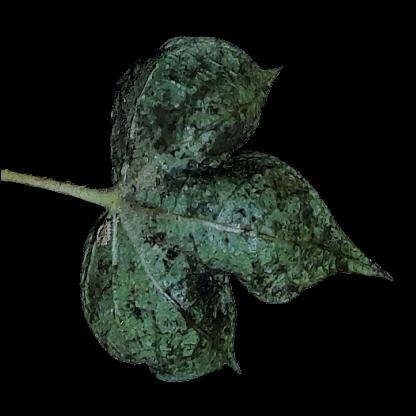sooty: (154, 84, 266, 204), (233, 218, 336, 299), (102, 212, 205, 278), (102, 80, 156, 202), (163, 286, 227, 381), (106, 287, 166, 365), (172, 43, 242, 102)
